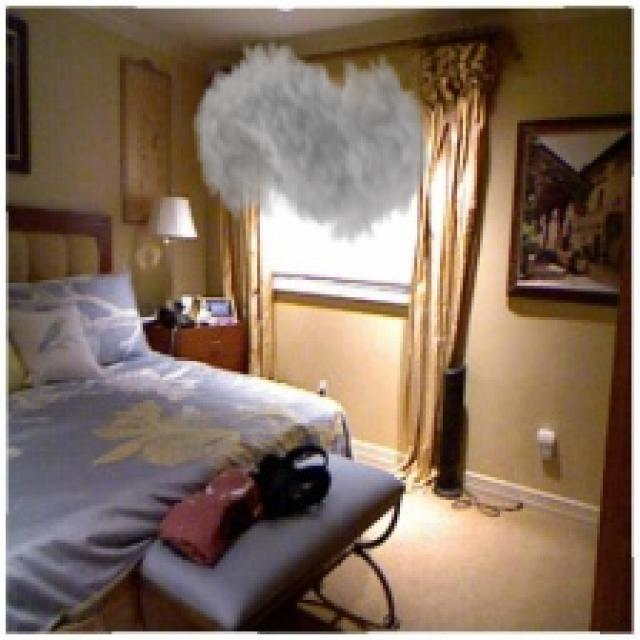Smoke: (192, 14, 432, 263)
